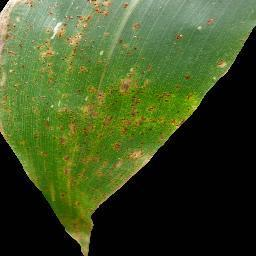Corn_Common_Rust: (0, 0, 145, 173), (24, 173, 138, 256), (145, 64, 215, 167), (214, 57, 230, 70), (176, 33, 186, 42), (206, 17, 217, 24)
